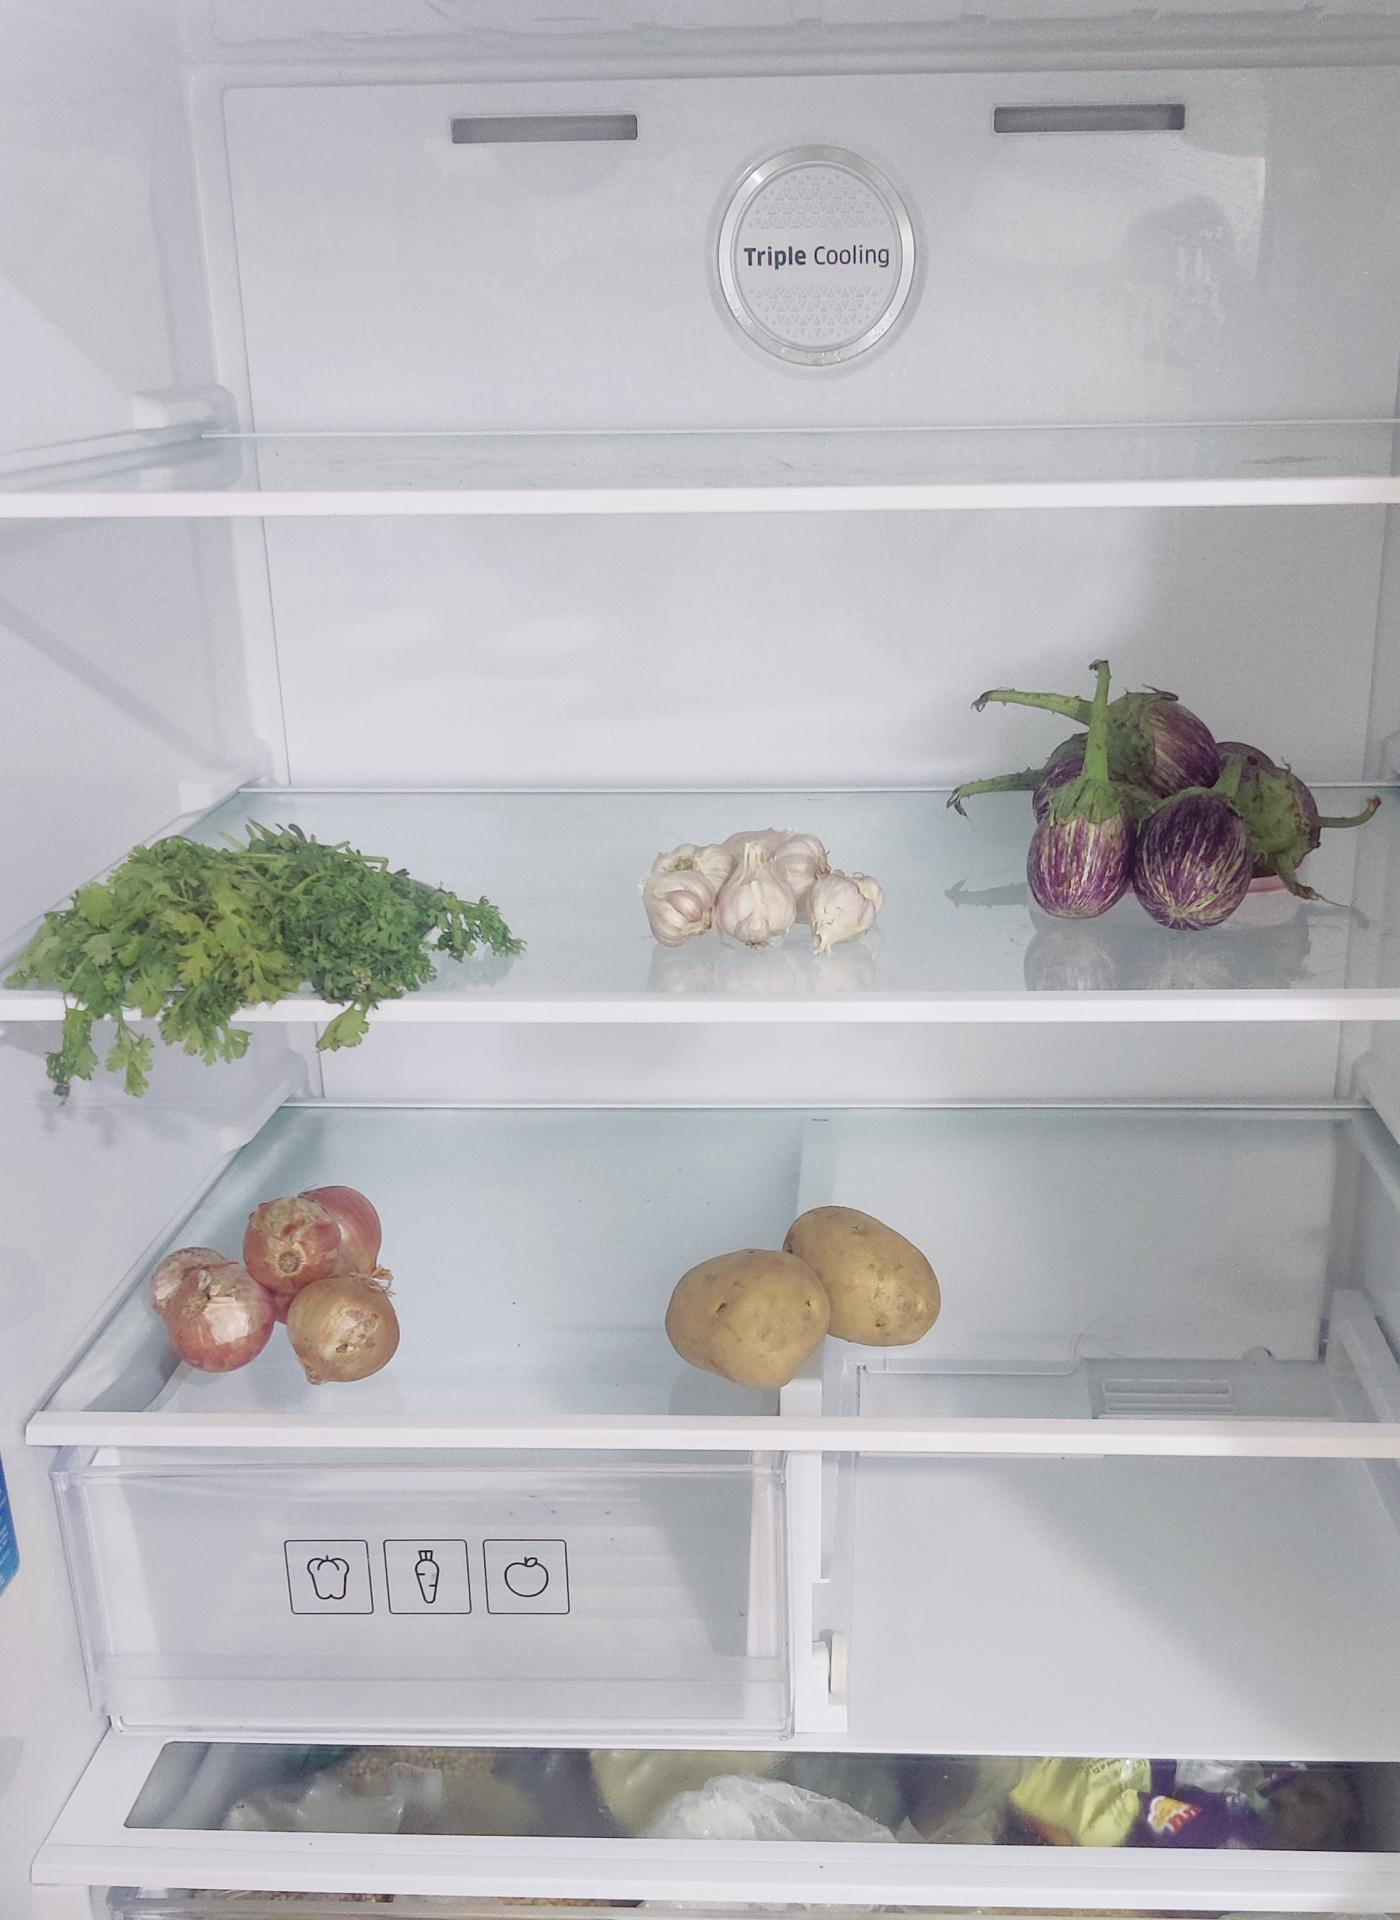brinjal: (981, 666, 1303, 917)
coriander: (22, 839, 514, 1040)
garlic: (646, 820, 884, 950)
onion: (158, 1164, 413, 1397)
potato: (665, 1204, 944, 1391)
